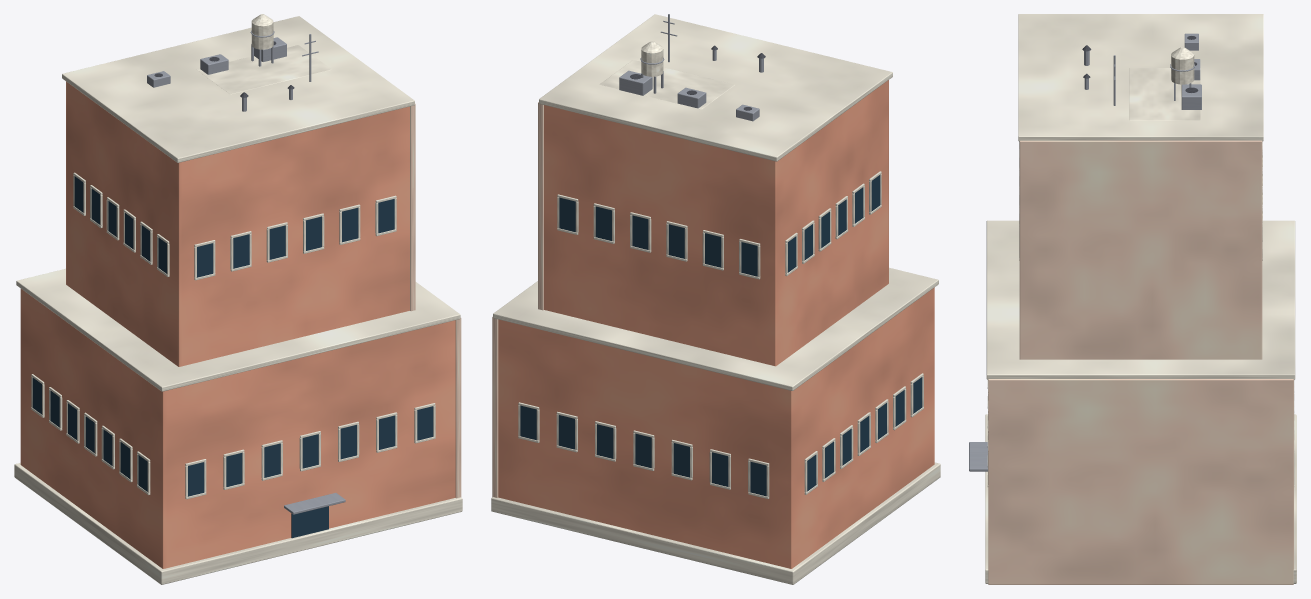
The model's file is bldg_coral_hall.glb.
The picture shows the model from 3 angles, left to right: view 1: azimuth 30°, elevation 25°; view 2: azimuth 150°, elevation 25°; view 3: azimuth 270°, elevation 25°; orthographic projection. The views are drawn at different scales.
Visible parts, largest first — view 1: bldg_coral_hall_band_0_wall, bldg_coral_hall_band_1_wall, bldg_coral_hall_band_1_cornice, bldg_coral_hall_band_0_cornice, bldg_coral_hall_plinth, bldg_coral_hall_roof_curb, bldg_coral_hall_band_0_pilaster, bldg_coral_hall_band_1_pilaster, bldg_coral_hall_entrance, bldg_coral_hall_canopy; view 2: bldg_coral_hall_band_0_wall, bldg_coral_hall_band_1_wall, bldg_coral_hall_band_1_cornice, bldg_coral_hall_band_0_cornice, bldg_coral_hall_plinth, bldg_coral_hall_roof_curb, bldg_coral_hall_band_0_pilaster, bldg_coral_hall_band_1_pilaster, bldg_coral_hall_ac_2_case; view 3: bldg_coral_hall_band_0_pilaster, bldg_coral_hall_band_1_pilaster, bldg_coral_hall_band_1_cornice, bldg_coral_hall_band_0_cornice, bldg_coral_hall_roof_curb, bldg_coral_hall_plinth, bldg_coral_hall_tank_a_barrel, bldg_coral_hall_canopy, bldg_coral_hall_ac_2_case.
Boxes of the visible parts, bbox=[...] form: bldg_coral_hall_band_0_wall: bbox=[20, 289, 455, 568]; bldg_coral_hall_band_1_wall: bbox=[66, 81, 409, 366]; bldg_coral_hall_band_1_cornice: bbox=[62, 16, 414, 162]; bldg_coral_hall_band_0_cornice: bbox=[16, 268, 460, 391]; bldg_coral_hall_plinth: bbox=[14, 463, 462, 584]; bldg_coral_hall_roof_curb: bbox=[197, 45, 331, 94]; bldg_coral_hall_band_0_pilaster: bbox=[455, 317, 461, 498]; bldg_coral_hall_band_1_pilaster: bbox=[410, 103, 415, 311]; bldg_coral_hall_entrance: bbox=[291, 506, 328, 538]; bldg_coral_hall_canopy: bbox=[284, 493, 345, 514]; bldg_coral_hall_band_0_wall: bbox=[498, 287, 934, 568]; bldg_coral_hall_band_1_wall: bbox=[544, 80, 888, 366]; bldg_coral_hall_band_1_cornice: bbox=[539, 14, 892, 161]; bldg_coral_hall_band_0_cornice: bbox=[493, 267, 938, 390]; bldg_coral_hall_plinth: bbox=[491, 462, 940, 584]; bldg_coral_hall_roof_curb: bbox=[599, 60, 734, 109]; bldg_coral_hall_band_0_pilaster: bbox=[492, 316, 498, 497]; bldg_coral_hall_band_1_pilaster: bbox=[538, 102, 543, 310]; bldg_coral_hall_ac_2_case: bbox=[619, 70, 652, 95]; bldg_coral_hall_band_0_pilaster: bbox=[988, 379, 1293, 584]; bldg_coral_hall_band_1_pilaster: bbox=[1019, 140, 1262, 359]; bldg_coral_hall_band_1_cornice: bbox=[1018, 14, 1263, 141]; bldg_coral_hall_band_0_cornice: bbox=[986, 220, 1295, 379]; bldg_coral_hall_roof_curb: bbox=[1129, 68, 1200, 120]; bldg_coral_hall_plinth: bbox=[985, 414, 1296, 583]; bldg_coral_hall_tank_a_barrel: bbox=[1171, 55, 1194, 84]; bldg_coral_hall_canopy: bbox=[969, 442, 987, 471]; bldg_coral_hall_ac_2_case: bbox=[1181, 84, 1201, 109].
Size of the model in its own units: 19.51 by 28.18 by 17.35.
Materials: 6 (6 with a texture image).
